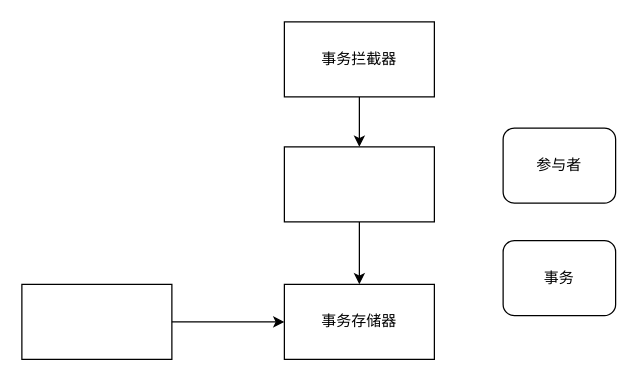
This 638x381 diagram has some shape labels left out. Each missing label, with the centre of its shape:
"事务管理器" goes at (358,184).
"事务补偿job" goes at (96,321).
